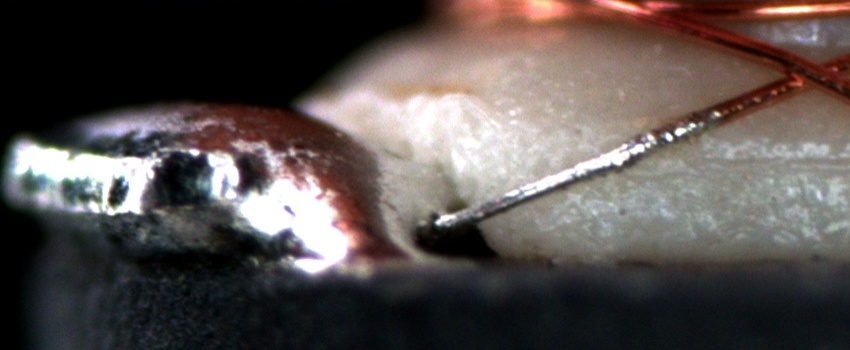CL: (762, 47, 838, 97)
DL: (697, 134, 850, 193)
TS: (435, 107, 718, 229)
